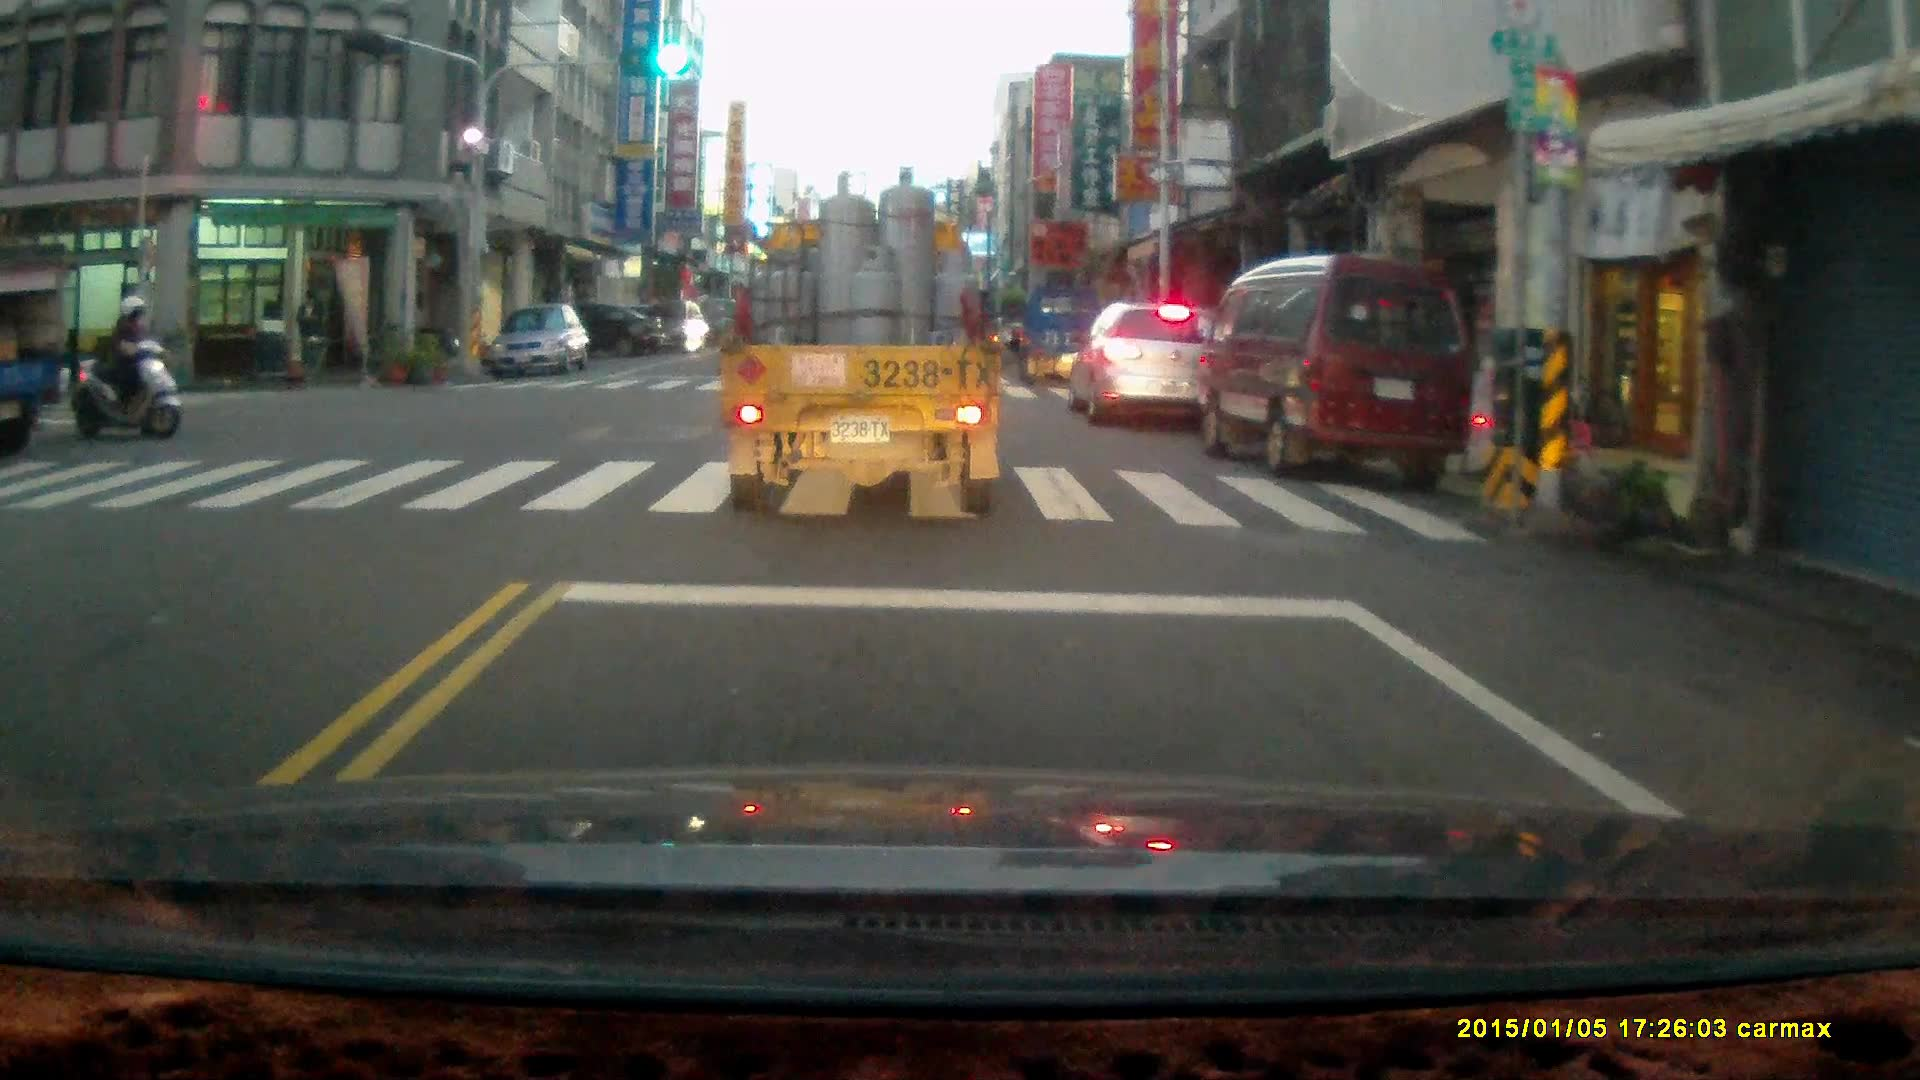pedestrian: (292, 283, 326, 386)
rider: (66, 292, 182, 436)
vehicle: (722, 162, 1006, 511), (1208, 247, 1485, 482), (1071, 289, 1240, 431), (1, 247, 73, 453), (1021, 283, 1107, 387), (487, 301, 592, 382), (528, 297, 663, 358), (620, 297, 708, 352)
